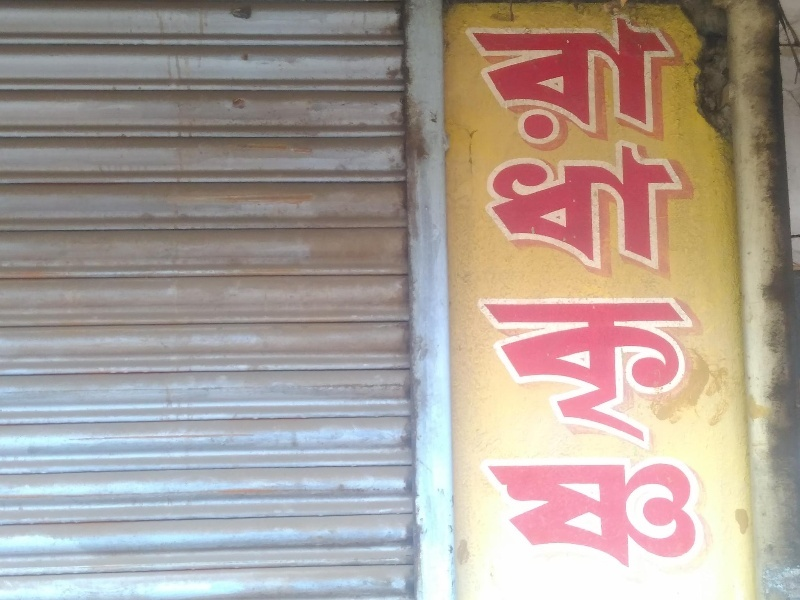text: (689, 17, 705, 593), (465, 17, 480, 593), (481, 17, 496, 593), (497, 17, 512, 593), (513, 17, 528, 593), (529, 17, 544, 593), (545, 17, 560, 593), (561, 17, 576, 593), (577, 17, 592, 593), (593, 17, 608, 593), (609, 17, 624, 593), (625, 17, 640, 593), (641, 17, 656, 593), (657, 17, 672, 593), (673, 17, 688, 593), (461, 17, 464, 593)
